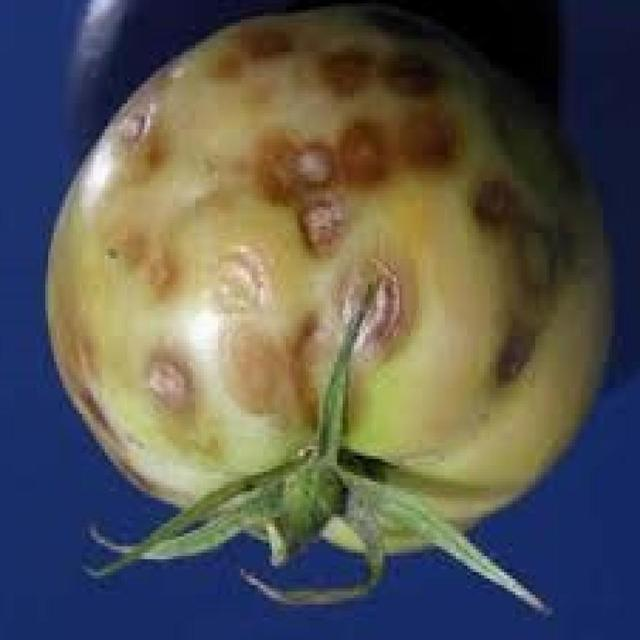Spotted wilt Virus Fruit: (31, 6, 408, 374)
